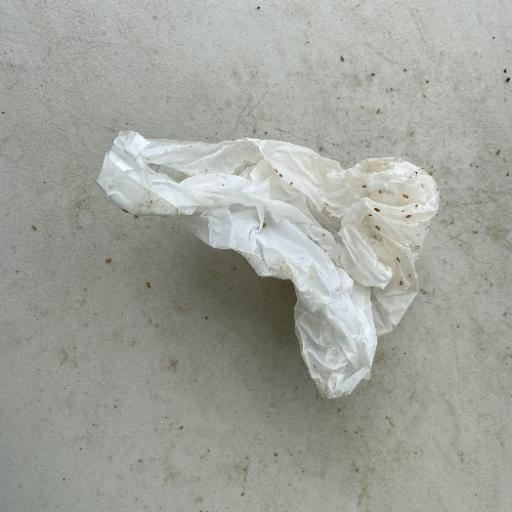Plastic: (94, 126, 442, 401)
